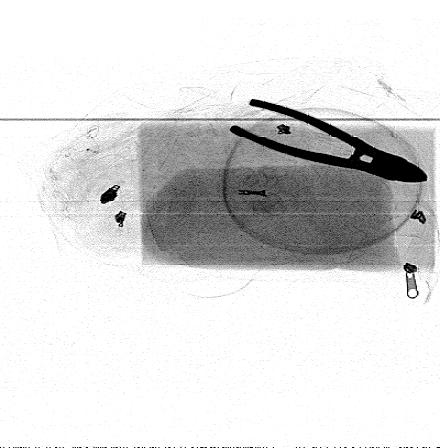Pliers: (228, 96, 429, 183)
